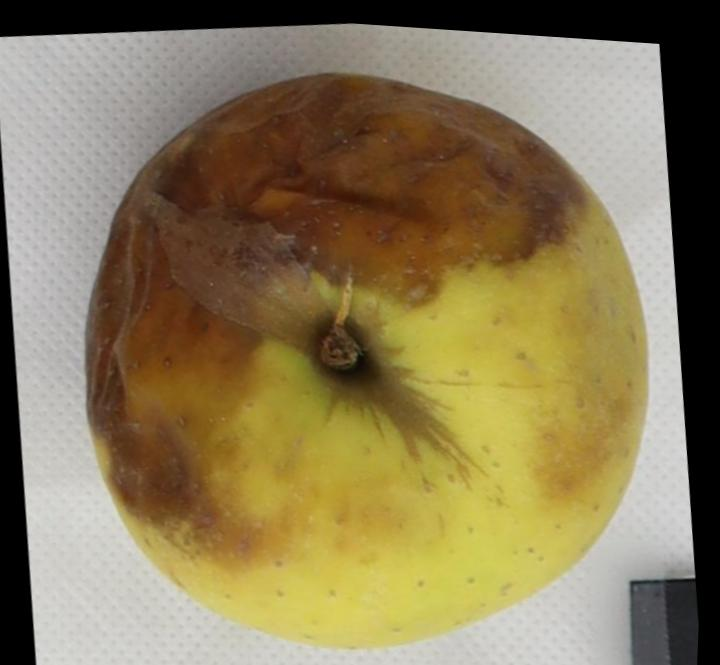apple: (88, 73, 647, 645)
rot_mold_decay: (87, 73, 585, 560)
